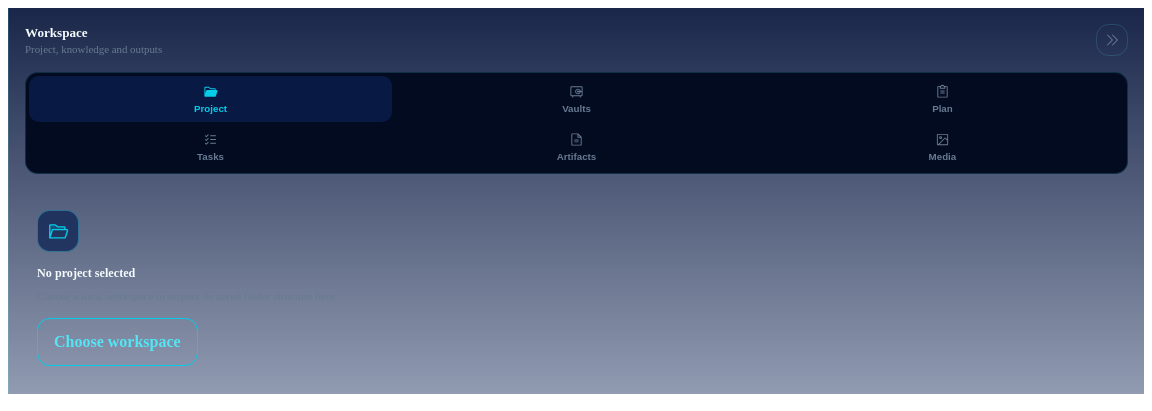
ConversationContextPanel › shows reported image progress, elapsed time and remaining estimate
The width and height of the screenshot is (1152, 411).
Click the tab "Media". click: (942, 147)
box: [761,125,1124,170]
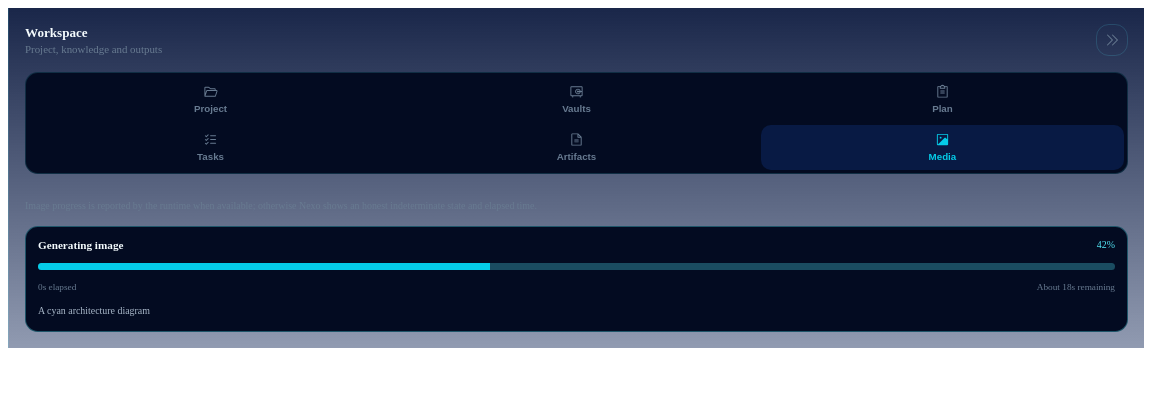
Now the progress indicator named "image generation progress" holds "42", box [38,263,1115,270]
Now the text "42%" is shown, box [1097,239,1115,250]
Now the text "About 18s remaining" is shown, box [1037,282,1115,292]
